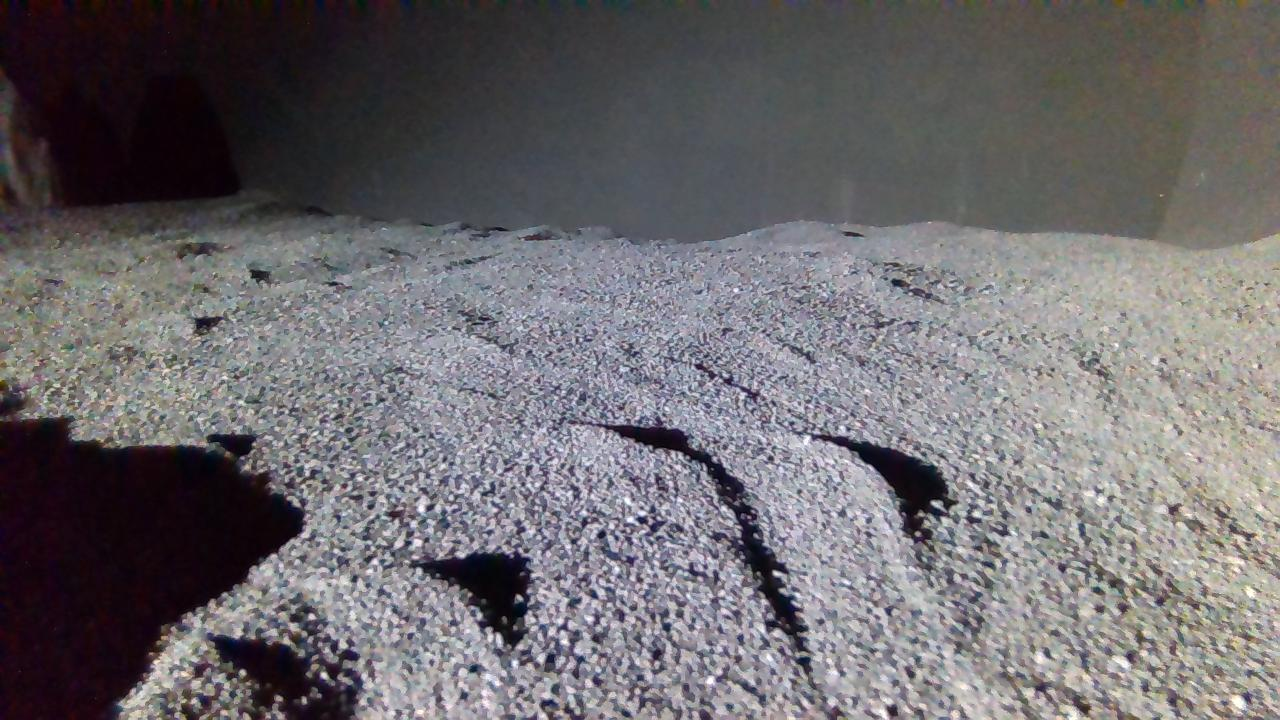rock: (0, 78, 58, 216)
